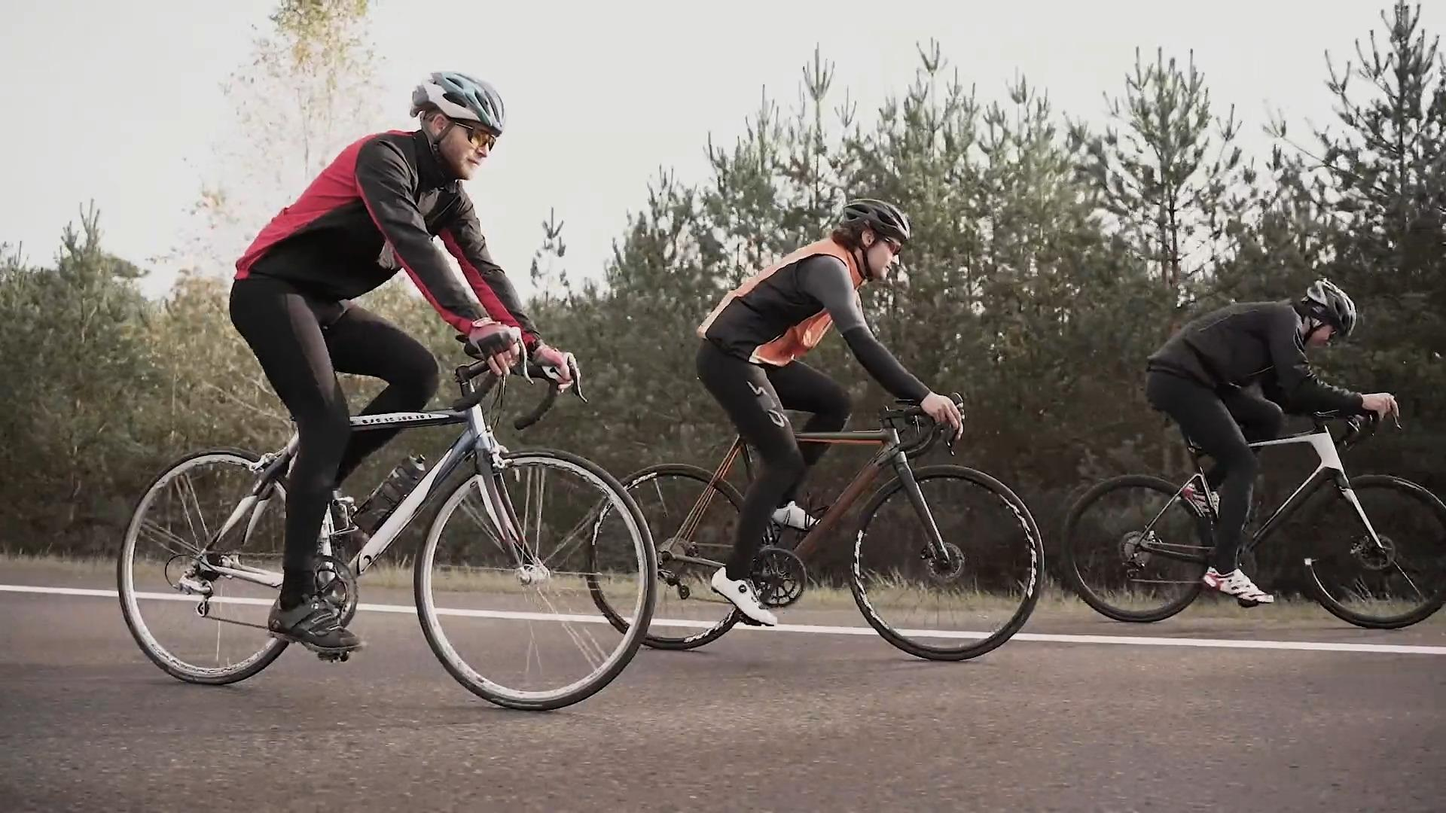bicyclist: (116, 70, 659, 712), (587, 197, 1046, 662), (1062, 276, 1446, 630)
helmet: (409, 72, 505, 184), (832, 198, 910, 283), (1297, 278, 1356, 348)
